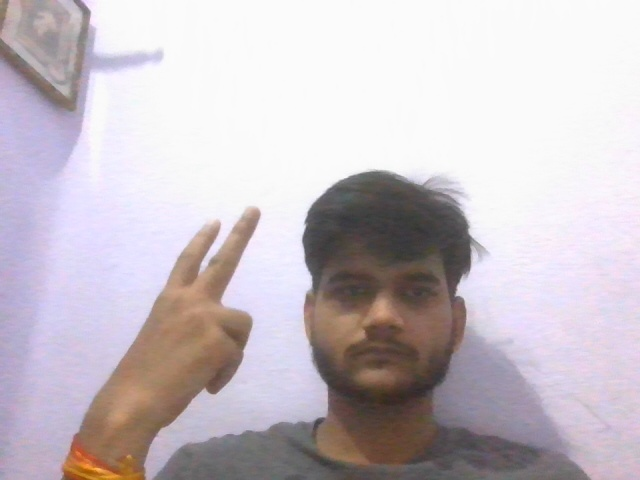yes: (89, 191, 282, 444)
